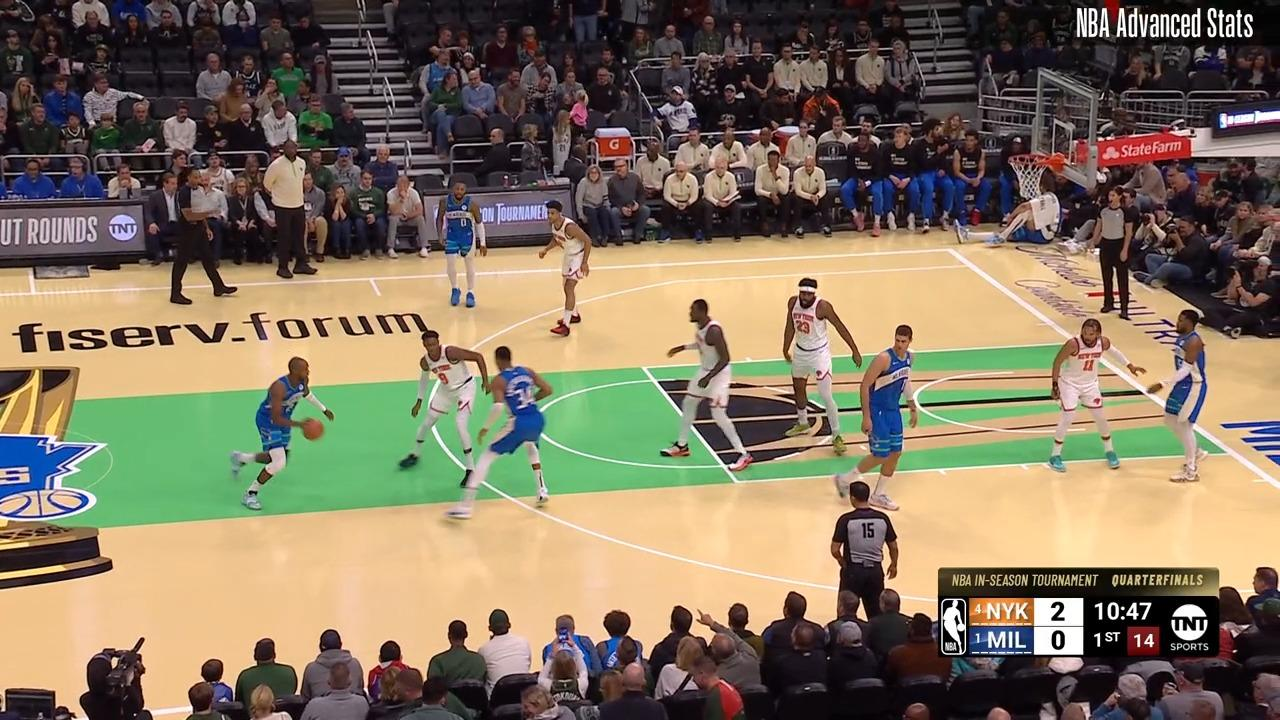Backboard: (1033, 83, 1090, 178)
Ball: (303, 420, 324, 441)
Basket: (1014, 152, 1055, 198)
Person: (443, 344, 573, 529), (221, 353, 342, 511), (660, 297, 757, 471), (396, 327, 492, 488), (1046, 318, 1135, 476), (846, 324, 920, 505), (775, 277, 849, 445), (1162, 307, 1229, 489), (539, 205, 599, 338), (437, 183, 486, 316)
Referee: (171, 165, 242, 307), (836, 482, 907, 620), (1093, 184, 1143, 322)
